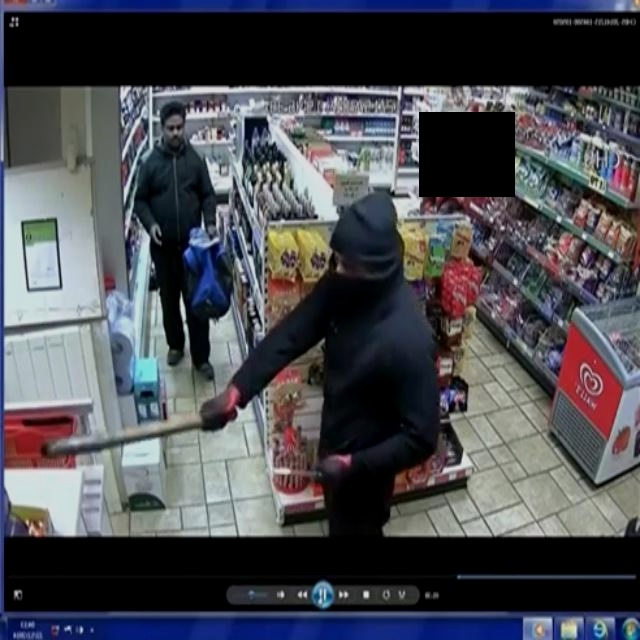gun: (31, 405, 245, 464), (250, 457, 339, 483)
